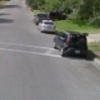cars: (53, 31, 88, 57)
